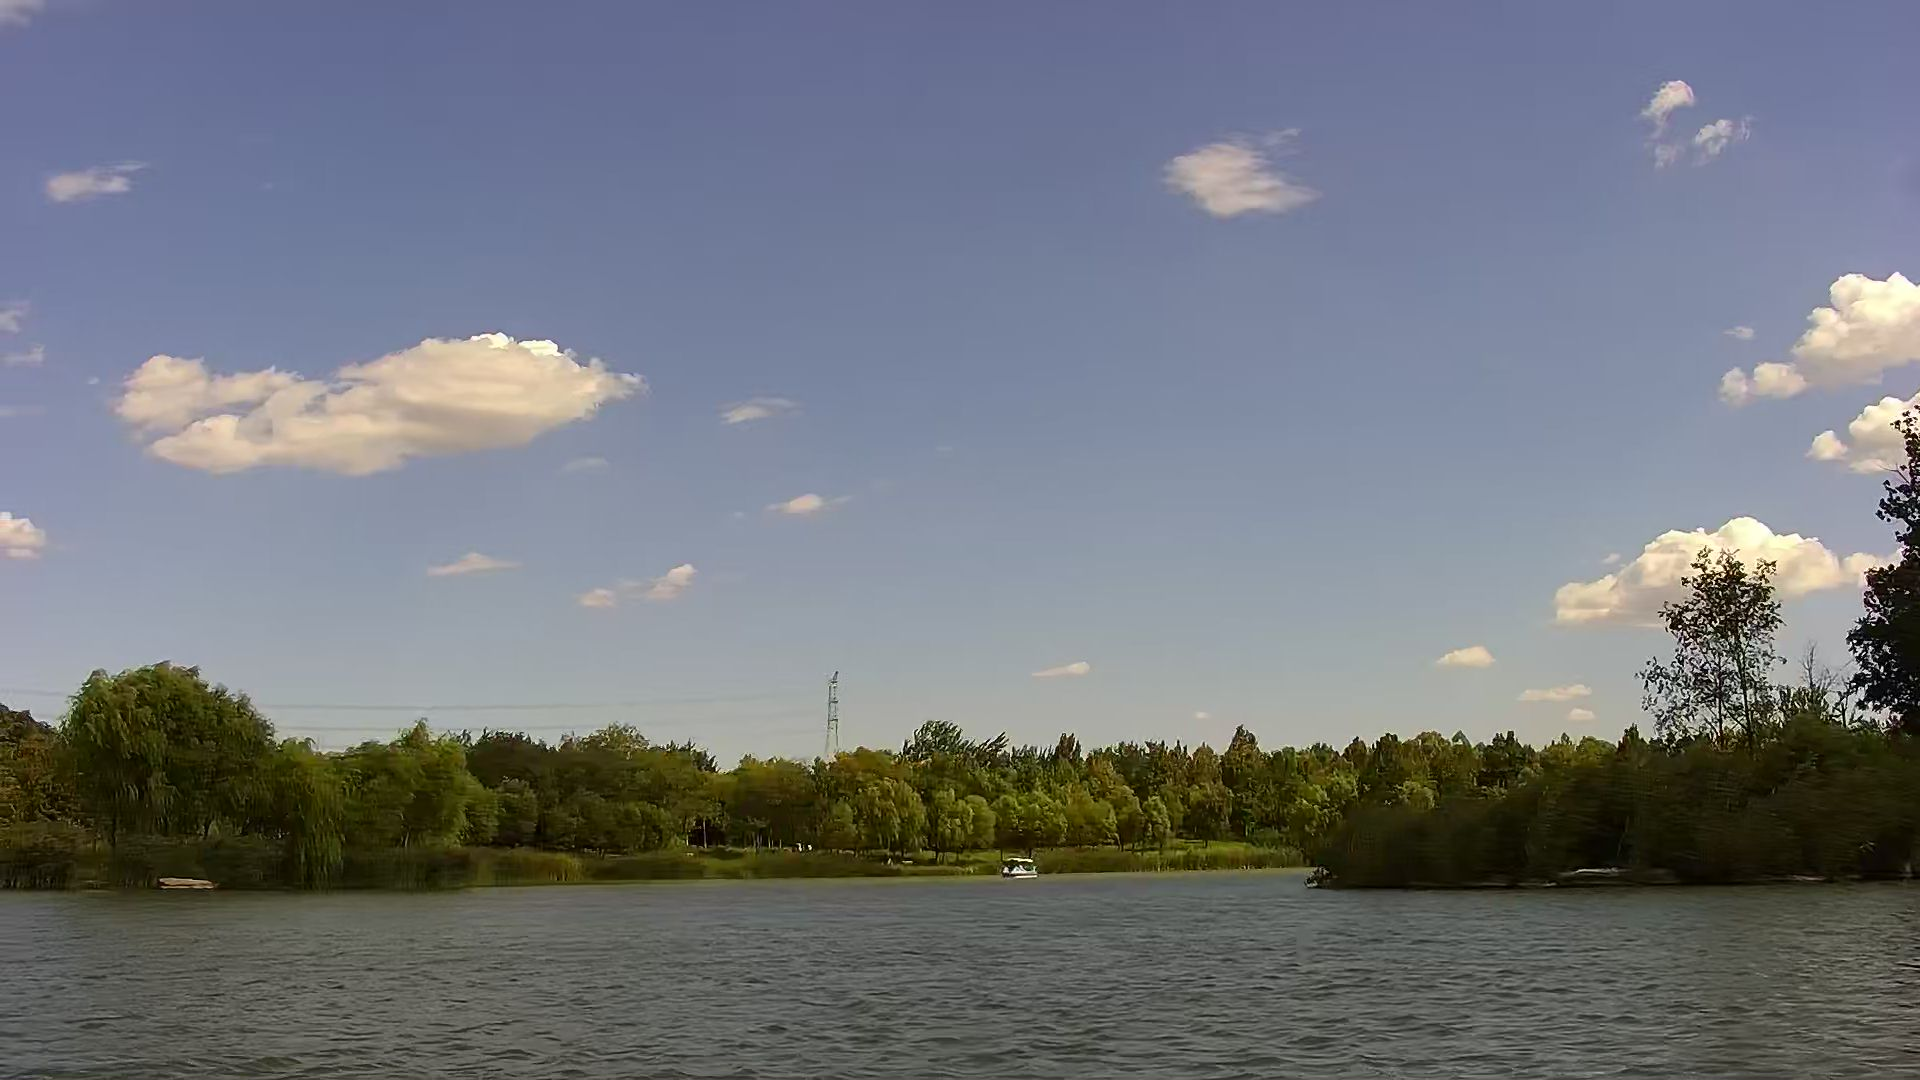boat: (997, 855, 1035, 877)
rock: (1553, 865, 1648, 884), (160, 874, 208, 887), (1785, 872, 1840, 884)
